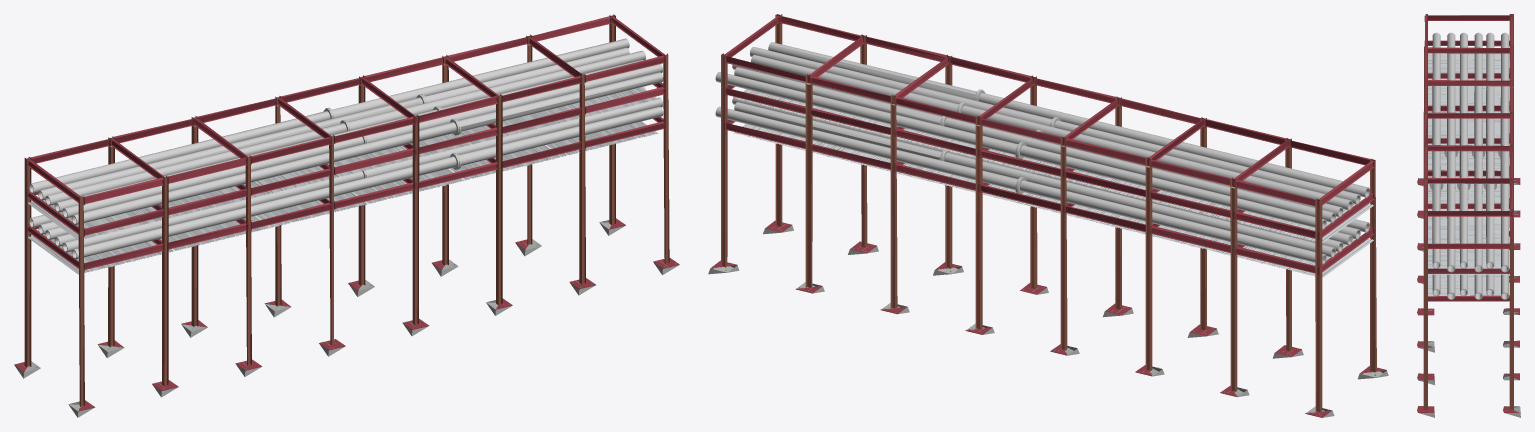
The picture shows the model from 3 angles, left to right: view 1: azimuth 30°, elevation 25°; view 2: azimuth 150°, elevation 25°; view 3: azimuth 270°, elevation 25°; orthographic projection. The views are drawn at different scales.
Parts seen in each view (by area): view 1: mesh-0, mesh-4, mesh-6, mesh-13, mesh-1; view 2: mesh-0, mesh-4, mesh-6, mesh-13, mesh-1; view 3: mesh-0, mesh-4, mesh-13, mesh-6, mesh-1.
Part boxes in pixels (box(x1,y1,x2,y2)): mesh-0: box(23, 38, 667, 406); mesh-4: box(14, 15, 679, 411); mesh-6: box(24, 14, 669, 406); mesh-13: box(28, 87, 658, 274); mesh-1: box(14, 220, 678, 417); mesh-0: box(715, 42, 1375, 413); mesh-4: box(710, 14, 1386, 417); mesh-6: box(721, 14, 1376, 412); mesh-13: box(734, 89, 1373, 277); mesh-1: box(708, 225, 1388, 417); mesh-0: box(1422, 32, 1518, 345); mesh-4: box(1418, 15, 1520, 412); mesh-13: box(1428, 53, 1509, 301); mesh-6: box(1423, 14, 1513, 409); mesh-1: box(1417, 178, 1520, 417).
Bounding box in the file's own units: 35.11 × 11.89 × 6.54.
